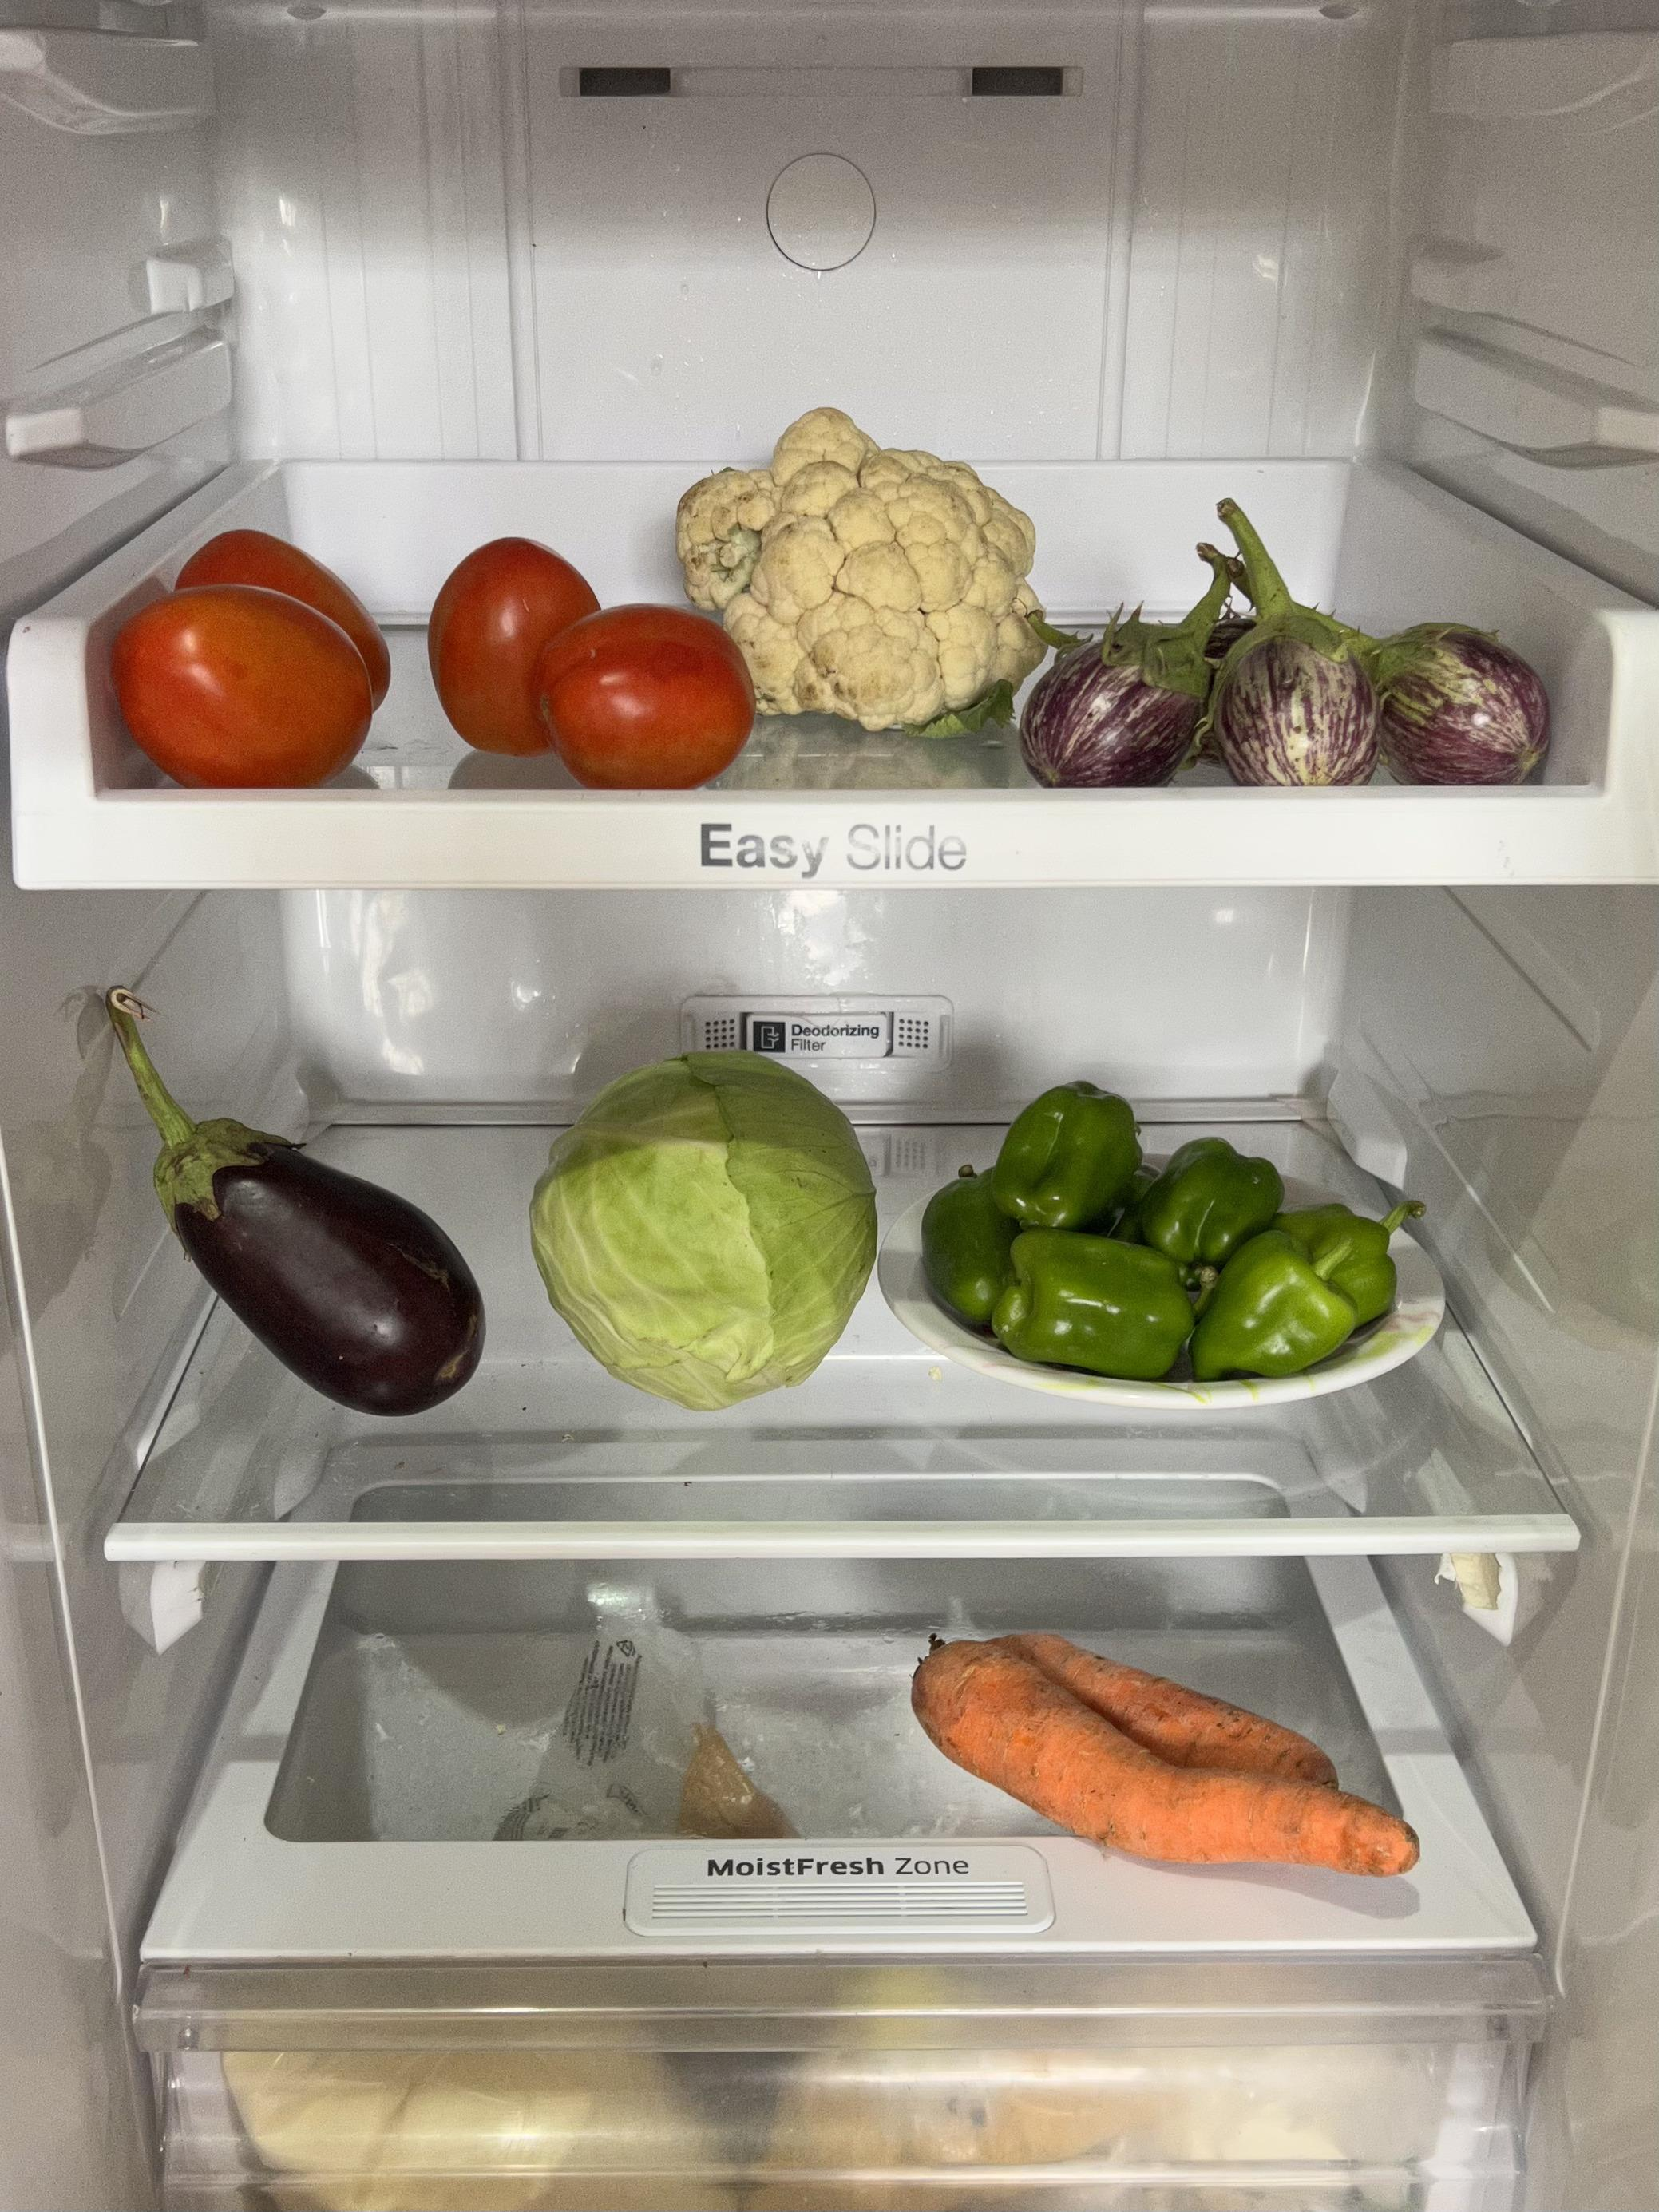bringal: (113, 1028, 484, 1411), (1014, 608, 1567, 794)
cabbage: (538, 1055, 870, 1400)
capsicum: (927, 1083, 1399, 1385)
carrots: (911, 1623, 1413, 1872)
cauliflower: (690, 399, 1028, 691)
tomato: (118, 523, 728, 773)
